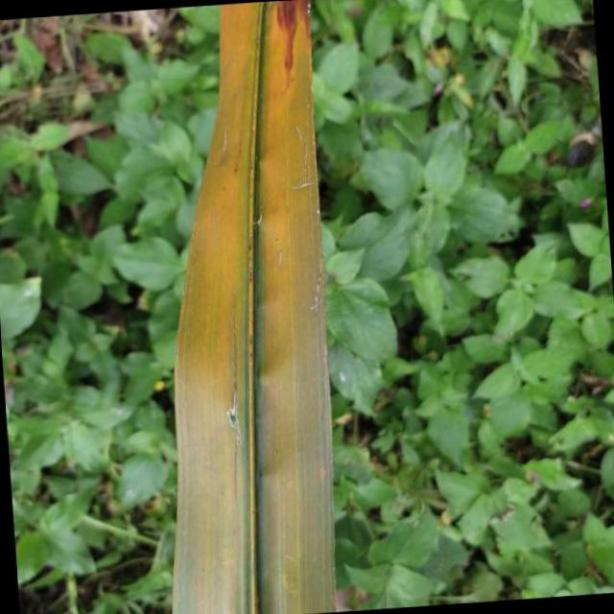Megnesium: (173, 0, 337, 614)
